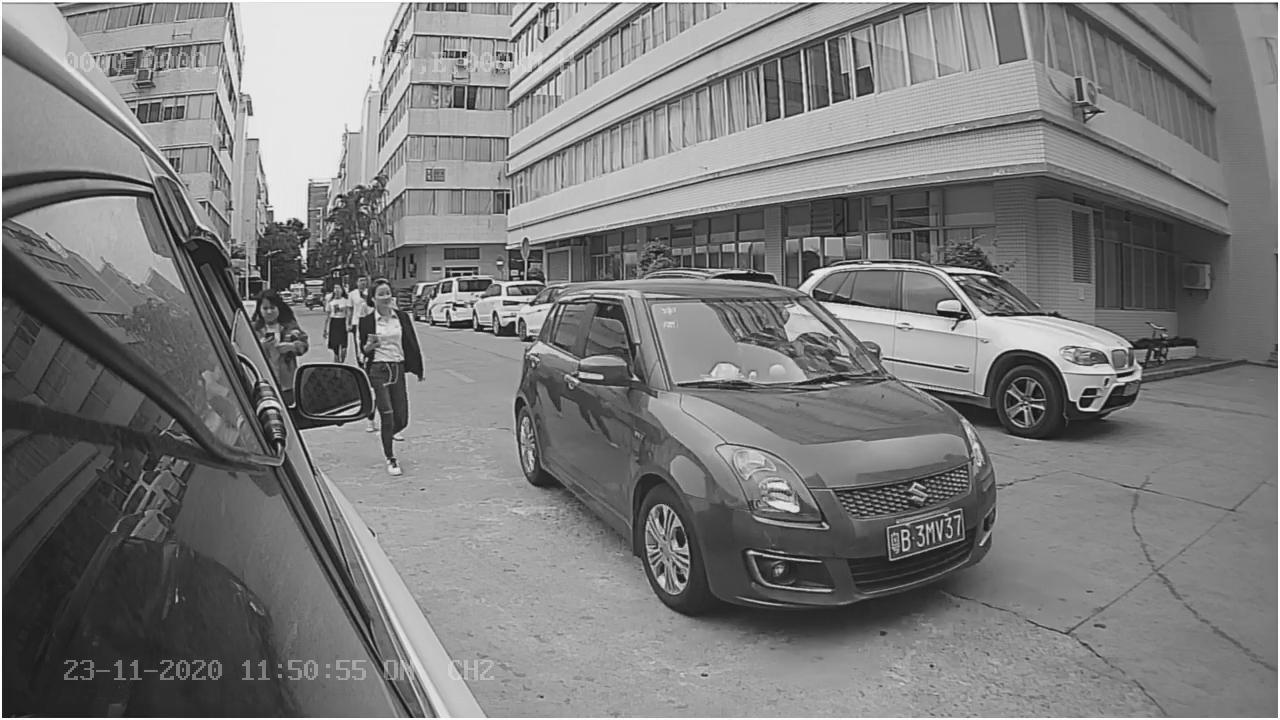person: (352, 276, 440, 363)
